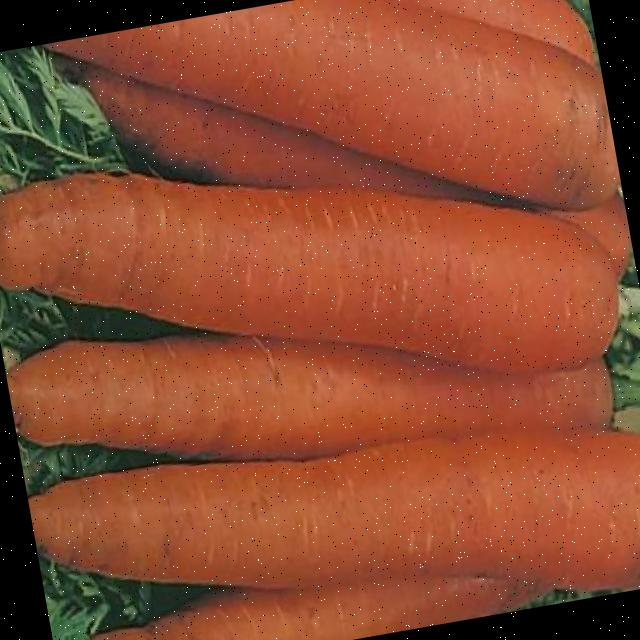carrot: (0, 174, 640, 373), (47, 0, 620, 208), (27, 429, 640, 590), (5, 336, 611, 459), (69, 61, 482, 199), (94, 575, 547, 640), (399, 0, 592, 63)
